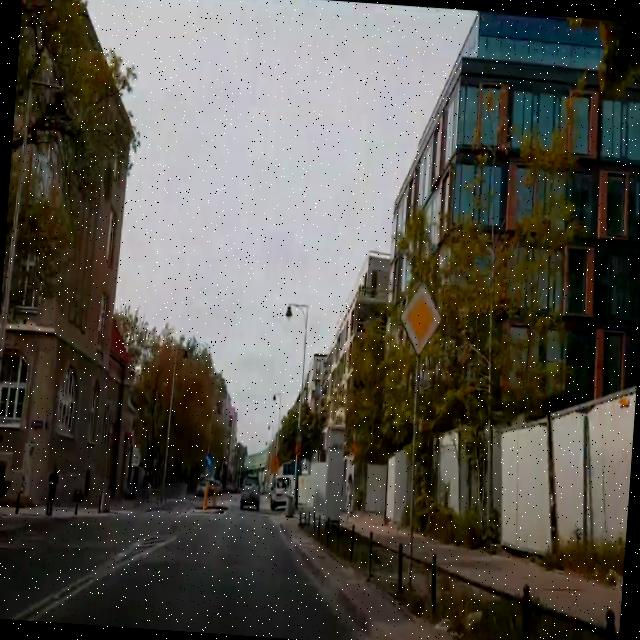Droga z pierwszenstwem: (398, 282, 443, 356)
